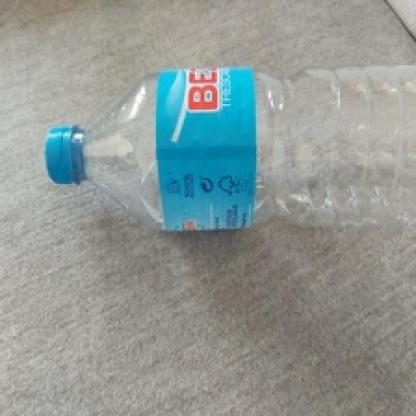Plastic Bottle: (44, 64, 414, 234), (154, 65, 258, 231)
